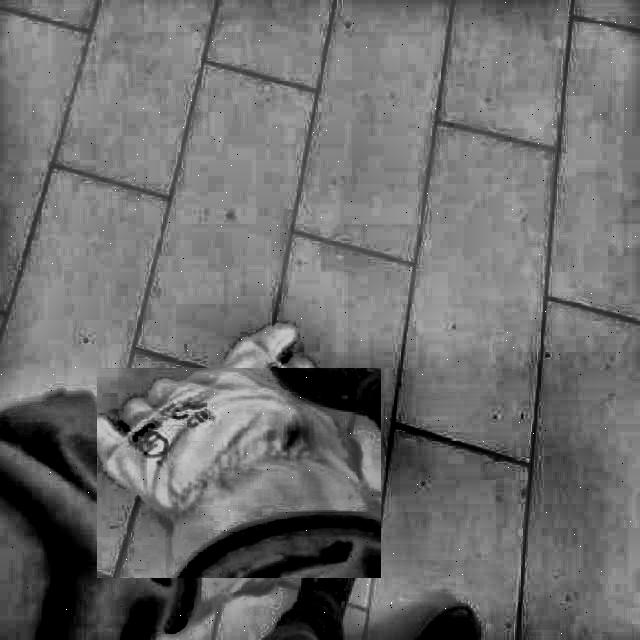gloved: (115, 349, 364, 597)
